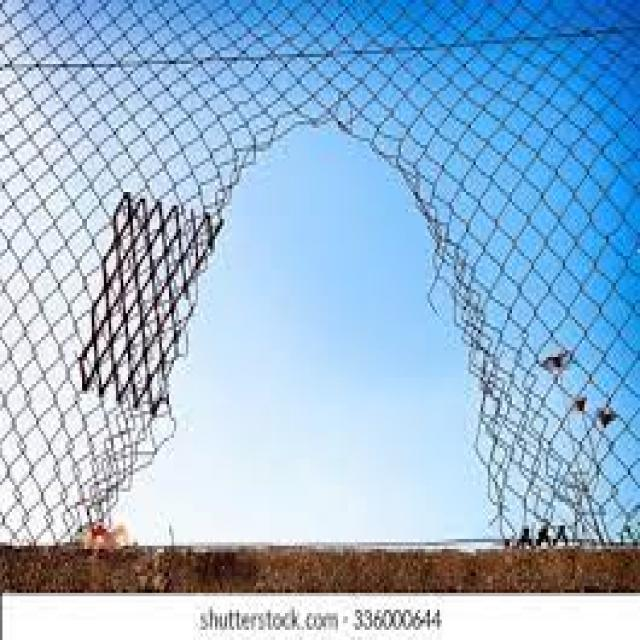fence line: (75, 99, 526, 551)
